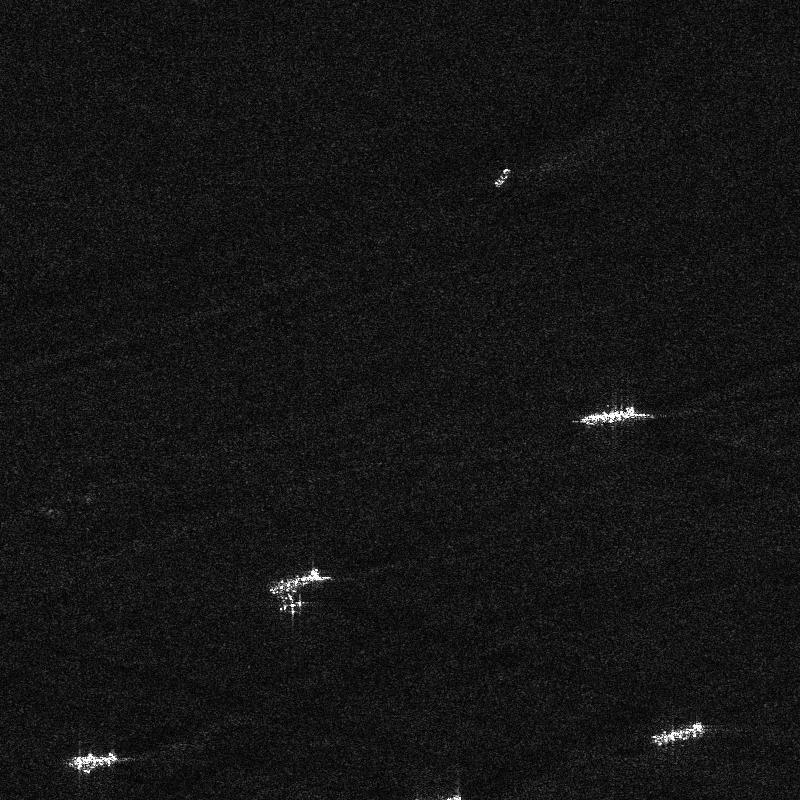ship: (269, 568, 330, 594), (580, 406, 650, 425), (652, 722, 703, 745), (69, 752, 117, 772), (494, 168, 511, 187), (435, 795, 462, 799)
